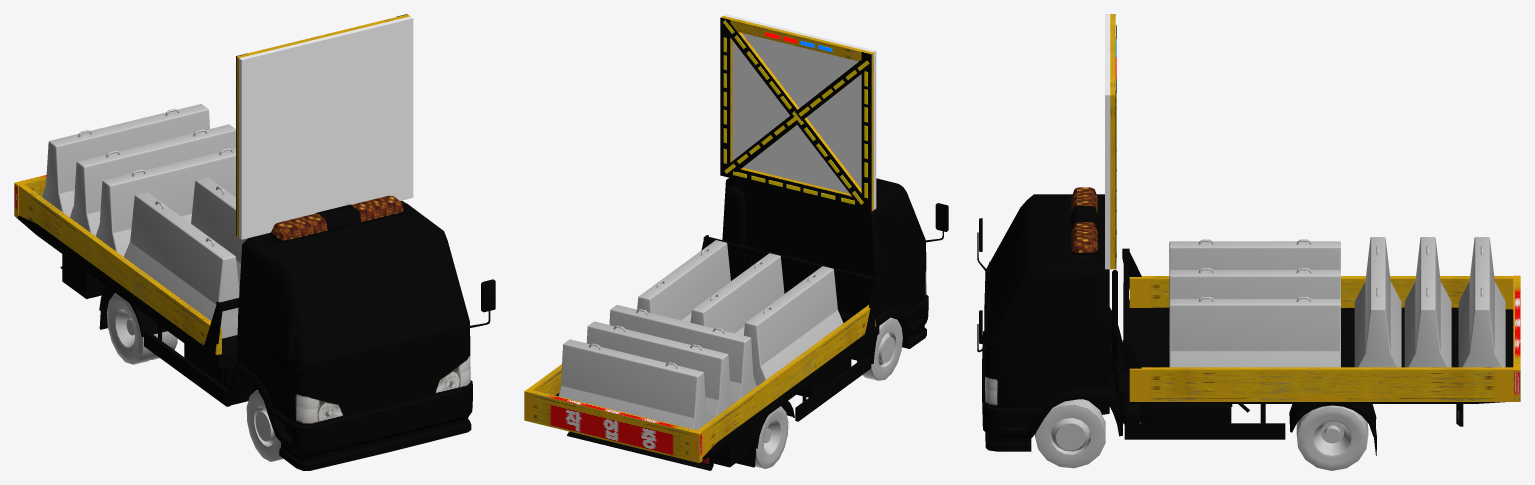
The model's file is TMA작업차량적재사고.fbx.
3 views of the same model, side by side, from view 1: azimuth 30°, elevation 25°; view 2: azimuth 150°, elevation 25°; view 3: azimuth 270°, elevation 25° (orthographic). The views are drawn at different scales.
Visible parts, largest first — view 1: Truck_Lowpoly1, 방향표시, model, model_3, Cube__1_, model_5, model_4, model_2, Truck_Lowpoly1_Wheel_BL, Truck_Lowpoly1_Wheel_FL, Cube__1__1, Cube__2__1 (+1 smaller); view 2: Truck_Lowpoly1, 방향표시, model_5, model, Cube, Cube__1_, model_4, model_3, model_1, model_2, Cube__9_, Cube__2__1 (+9 smaller); view 3: Truck_Lowpoly1, Cube__2_, model_1, model_2, model, model_3, model_4, model_5, Truck_Lowpoly1_Wheel_BR, Truck_Lowpoly1_Wheel_FR, Cube__1_, 방향표시 (+2 smaller).
Part boxes in pixels (x1,y1,x2,y2): Truck_Lowpoly1: [16, 195, 495, 470]; 방향표시: [239, 16, 413, 239]; model: [124, 192, 239, 338]; model_3: [95, 148, 235, 256]; Cube__1_: [18, 184, 221, 354]; model_5: [42, 104, 209, 217]; model_4: [70, 124, 235, 235]; model_2: [191, 177, 247, 290]; Truck_Lowpoly1_Wheel_BL: [106, 293, 177, 364]; Truck_Lowpoly1_Wheel_FL: [246, 390, 283, 461]; Cube__1__1: [236, 53, 249, 237]; Cube__2__1: [247, 16, 403, 55]; Truck_Lowpoly1: [555, 177, 948, 470]; 방향표시: [723, 14, 876, 209]; model_5: [558, 339, 709, 430]; model: [744, 266, 843, 386]; Cube: [524, 389, 702, 462]; Cube__1_: [697, 305, 875, 456]; model_4: [586, 321, 733, 420]; model_3: [609, 305, 756, 402]; model_1: [637, 240, 730, 322]; model_2: [690, 253, 784, 335]; Cube__9_: [724, 59, 869, 176]; Cube__2__1: [726, 17, 863, 61]; Truck_Lowpoly1: [977, 187, 1513, 455]; Cube__2_: [1129, 367, 1513, 401]; model_1: [1169, 296, 1340, 367]; model_2: [1169, 267, 1340, 299]; model: [1169, 239, 1340, 270]; model_3: [1354, 237, 1401, 367]; model_4: [1404, 237, 1451, 367]; model_5: [1458, 237, 1505, 367]; Truck_Lowpoly1_Wheel_BR: [1296, 405, 1368, 470]; Truck_Lowpoly1_Wheel_FR: [1035, 399, 1105, 468]; Cube__1_: [1129, 276, 1513, 309]; 방향표시: [1105, 14, 1110, 269].
Bounding box in the file's own units: 238 × 424 × 555.
